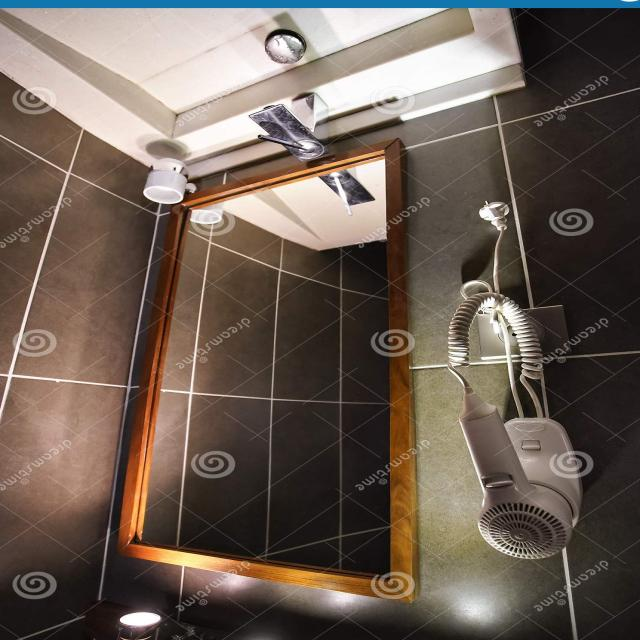dryer: (424, 250, 608, 572), (437, 370, 592, 562)
